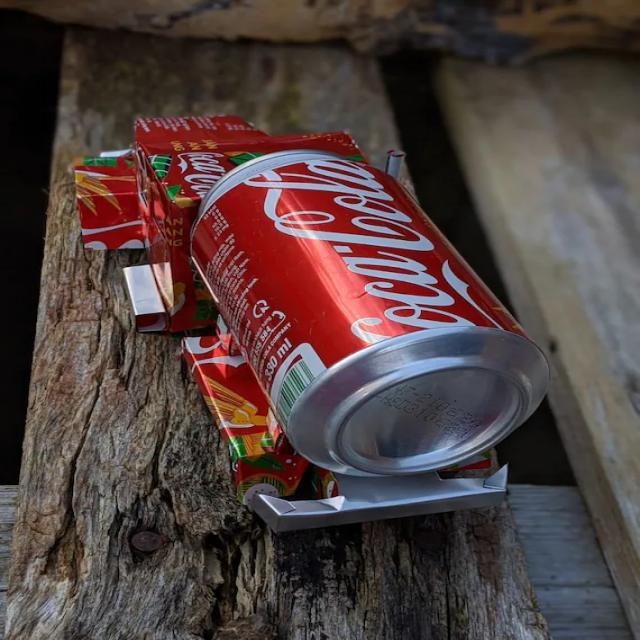Coke: (193, 149, 555, 489)
